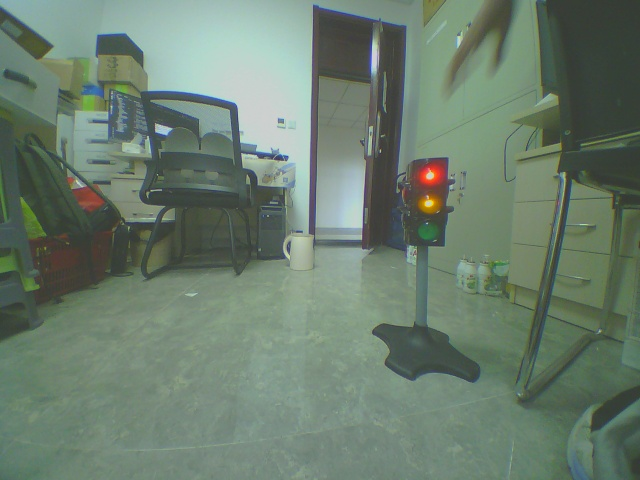Red_Yellow: (393, 154, 475, 256)
